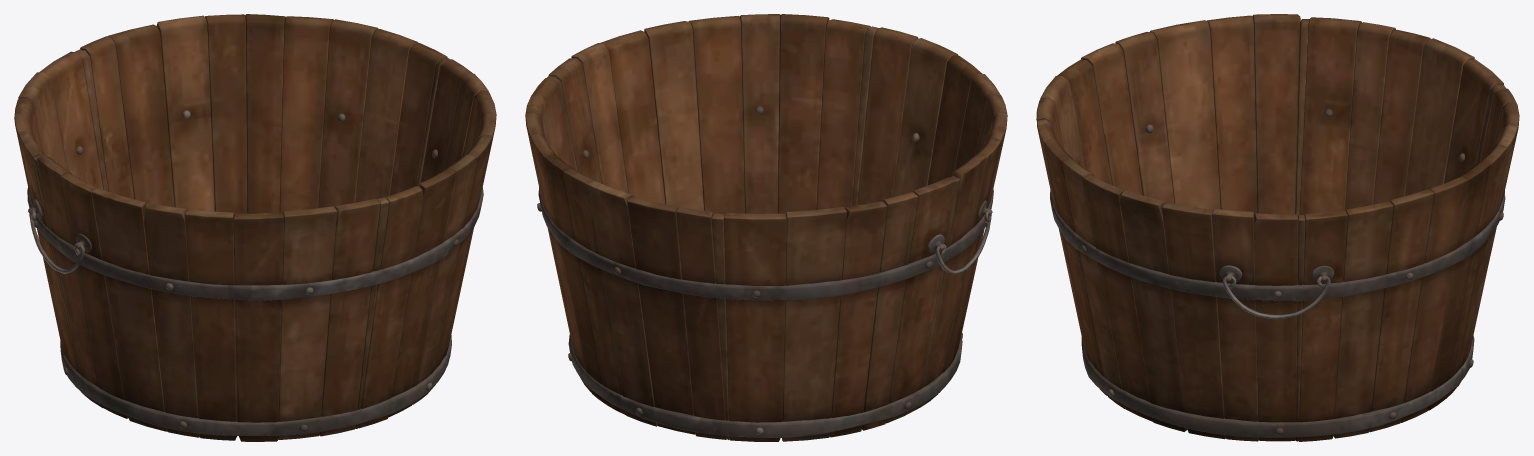
Rendered from wooden_bucket_02.2f2d8f11.glb.
The picture shows the model from 3 angles, left to right: view 1: azimuth 30°, elevation 25°; view 2: azimuth 150°, elevation 25°; view 3: azimuth 270°, elevation 25°; orthographic projection.
Parts seen in each view (by area): view 1: wooden_bucket_02, wooden_bucket_02_handle_01; view 2: wooden_bucket_02, wooden_bucket_02_handle_01; view 3: wooden_bucket_02, wooden_bucket_02_handle_02.
Part boxes in pixels (<box>): wooden_bucket_02: <box>14,14,496,441</box>; wooden_bucket_02_handle_01: <box>29,210,84,273</box>; wooden_bucket_02: <box>525,14,1007,441</box>; wooden_bucket_02_handle_01: <box>935,211,991,274</box>; wooden_bucket_02: <box>1036,14,1519,441</box>; wooden_bucket_02_handle_02: <box>1222,275,1330,319</box>.
Size of the model in its own units: 0.7189 by 0.4094 by 0.72.
1 material, 1 textured.
